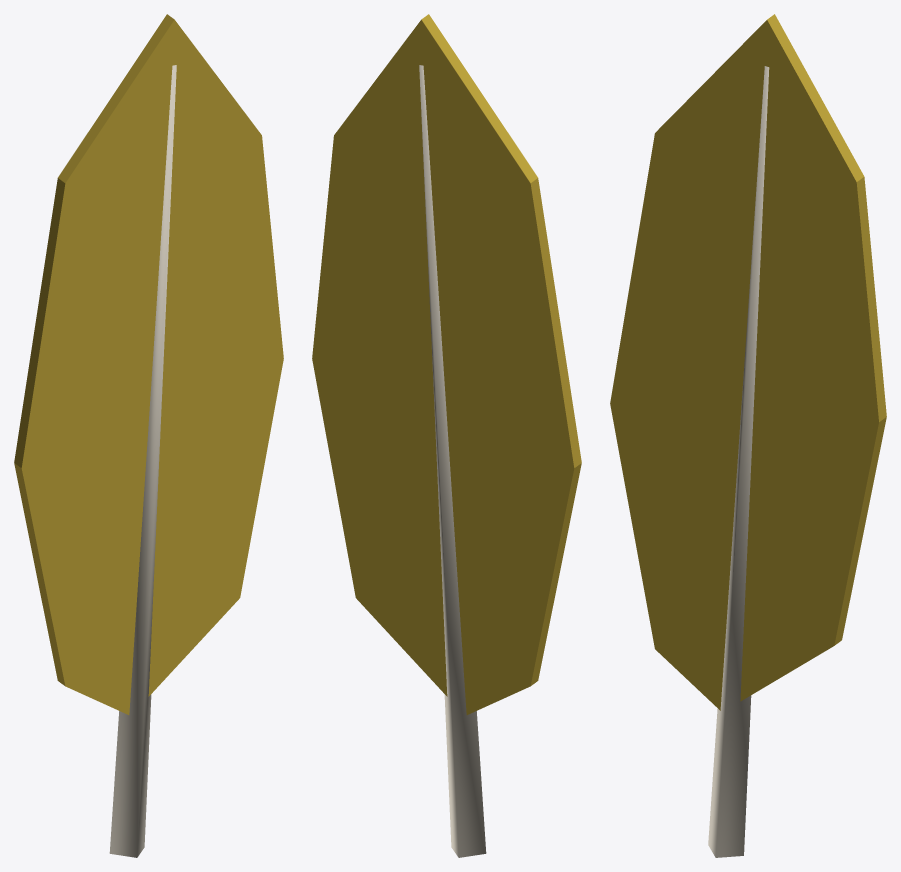
File: strange_plant_3.glb
3 views of the same model, side by side, from view 1: azimuth 30°, elevation 25°; view 2: azimuth 150°, elevation 25°; view 3: azimuth 330°, elevation 25° (orthographic). The views are drawn at different scales.
Visible parts, largest first — view 1: strange_plant_3_v0; view 2: strange_plant_3_v0; view 3: strange_plant_3_v0.
Part boxes in pixels (bbox=[...]): strange_plant_3_v0: bbox=[14, 14, 283, 857]; strange_plant_3_v0: bbox=[312, 14, 581, 857]; strange_plant_3_v0: bbox=[610, 14, 886, 857].
Bounding box in the file's own units: 0.12 × 0.3605 × 0.016.
